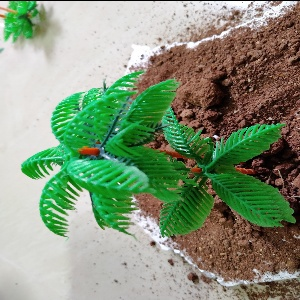plant: (27, 87, 298, 234)
